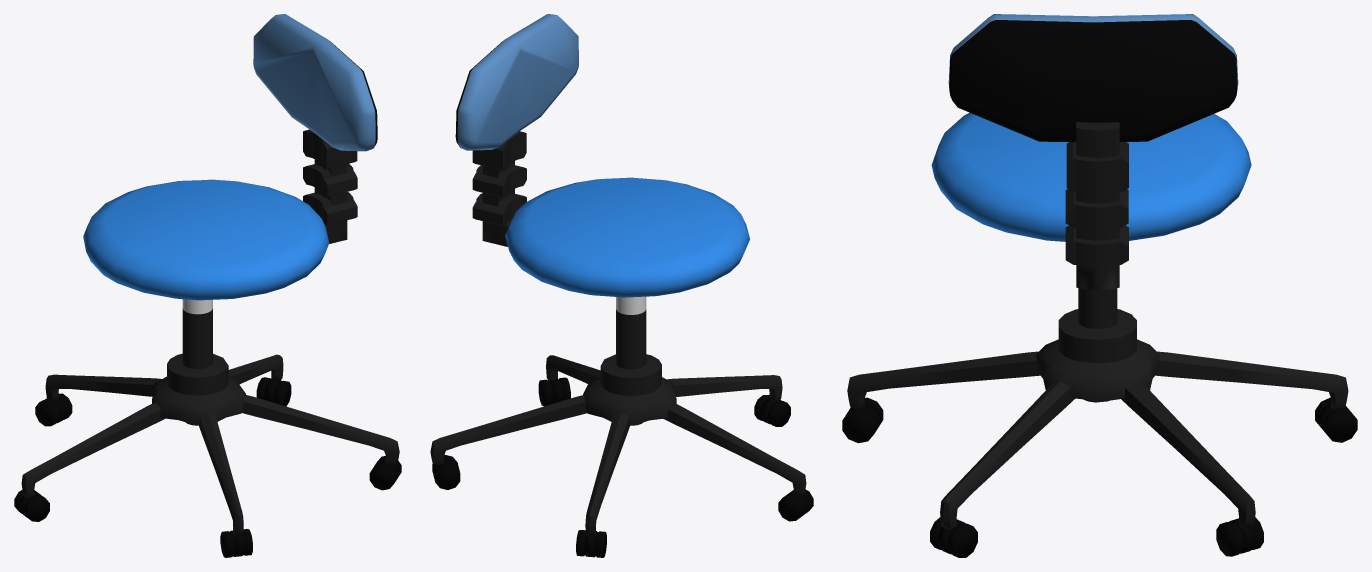
File: CADEIRA OPTICA (1) - Copia.fbx
3 renders of one model, left to right at view 1: azimuth 30°, elevation 25°; view 2: azimuth 150°, elevation 25°; view 3: azimuth 270°, elevation 25°, orthographic. The views are drawn at different scales.
Parts seen in each view (by area): view 1: costa da cadeira, baixo rodas.002, RODA01.004, RODA01, RODA01.003, RODA02, RODA01.002; view 2: costa da cadeira, baixo rodas.002, RODA02, RODA01, RODA01.002, RODA01.004, RODA01.003; view 3: costa da cadeira, baixo rodas.002, RODA01.002, RODA01.003, RODA02, RODA01.004.
Part boxes in pixels (x1,y1,x2,y2): costa da cadeira: (83,14,377,300); baixo rodas.002: (21,129,399,536); RODA01.004: (35,393,72,426); RODA01: (14,490,49,521); RODA01.003: (256,377,291,406); RODA02: (220,529,252,557); RODA01.002: (369,456,401,490); costa da cadeira: (455,14,749,297); baixo rodas.002: (430,131,806,536); RODA02: (754,395,790,426); RODA01: (778,489,813,521); RODA01.002: (538,377,570,406); RODA01.004: (576,530,606,557); RODA01.003: (432,455,460,489); costa da cadeira: (931,14,1251,241); baixo rodas.002: (847,122,1348,529); RODA01.002: (930,517,977,557); RODA01.003: (1216,517,1263,556); RODA02: (842,397,883,443); RODA01.004: (1315,397,1357,442).
Bounding box in the file's own units: 2.22 × 2.64 × 2.33.
